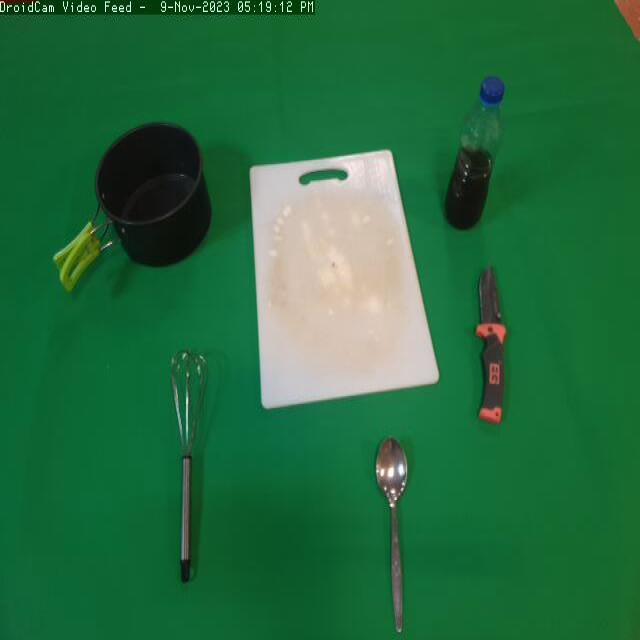cutting board: (245, 140, 452, 420)
fullbottle: (441, 60, 505, 248)
knife: (466, 256, 522, 452)
pot: (47, 111, 218, 299)
spoon: (363, 427, 429, 640)
whisk: (150, 335, 250, 597)
